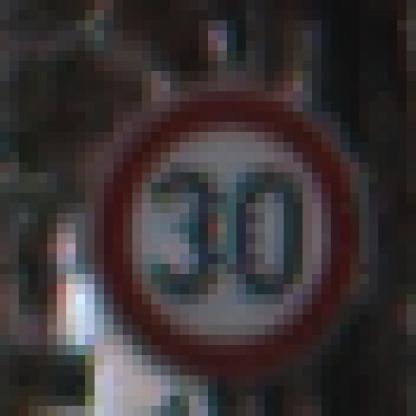Speed Limit 30: (99, 93, 358, 370)
